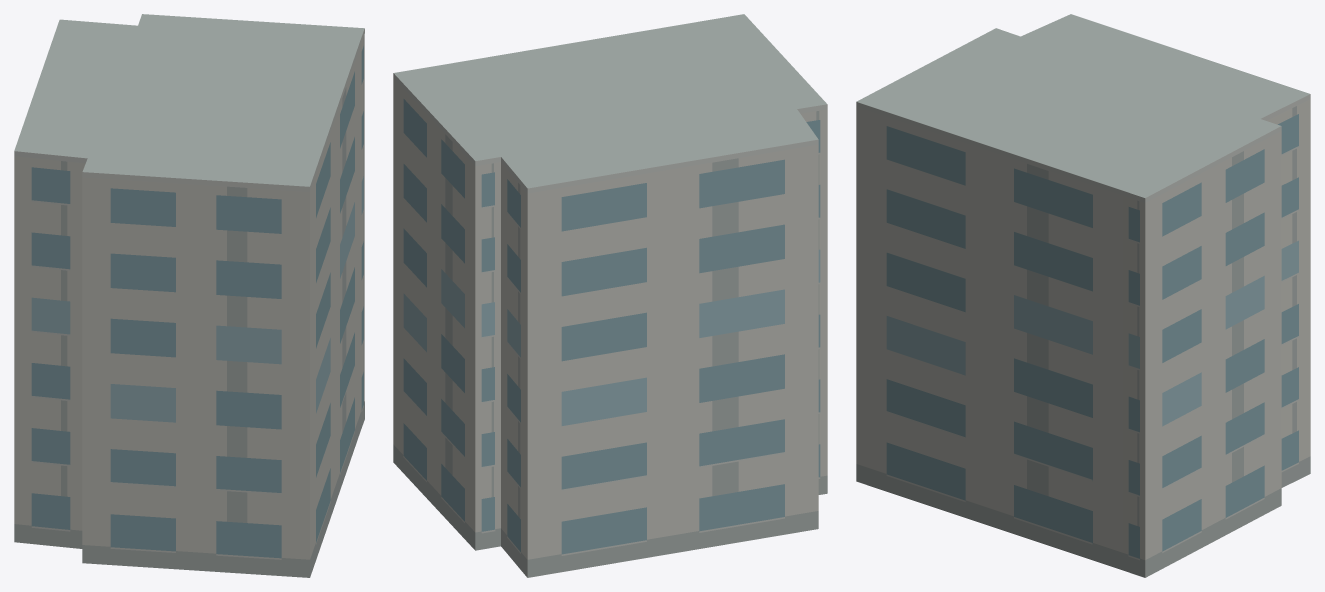
Rendered from survey-upis-32888637.glb.
3 views of the same model, side by side, from view 1: azimuth 30°, elevation 25°; view 2: azimuth 150°, elevation 25°; view 3: azimuth 270°, elevation 25° (orthographic). The views are drawn at different scales.
Visible parts, largest first — view 1: survey-upis-32888637.tmp; view 2: survey-upis-32888637.tmp; view 3: survey-upis-32888637.tmp.
Boxes of the visible parts, box(x1,y1,x2,y2) form: survey-upis-32888637.tmp: box(14, 14, 364, 577); survey-upis-32888637.tmp: box(393, 14, 827, 577); survey-upis-32888637.tmp: box(856, 14, 1310, 577).
Size of the model in its own units: 19.05 by 18.3 by 19.86.
